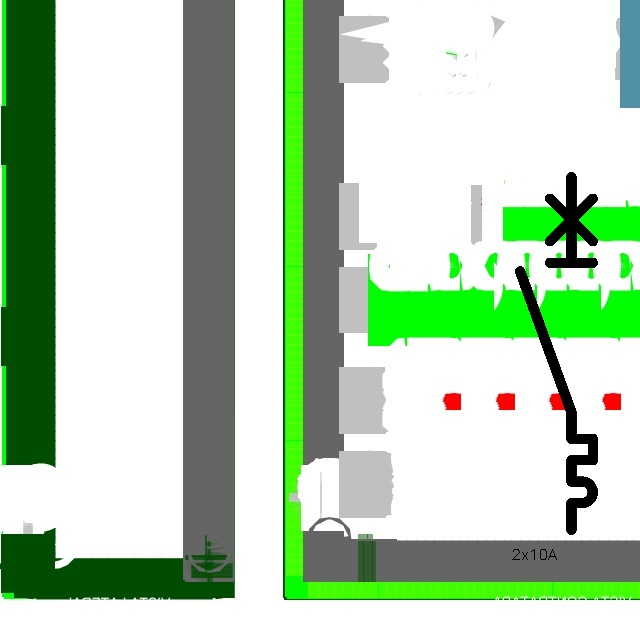interruptor_termomagnetico: (511, 168, 602, 539)
